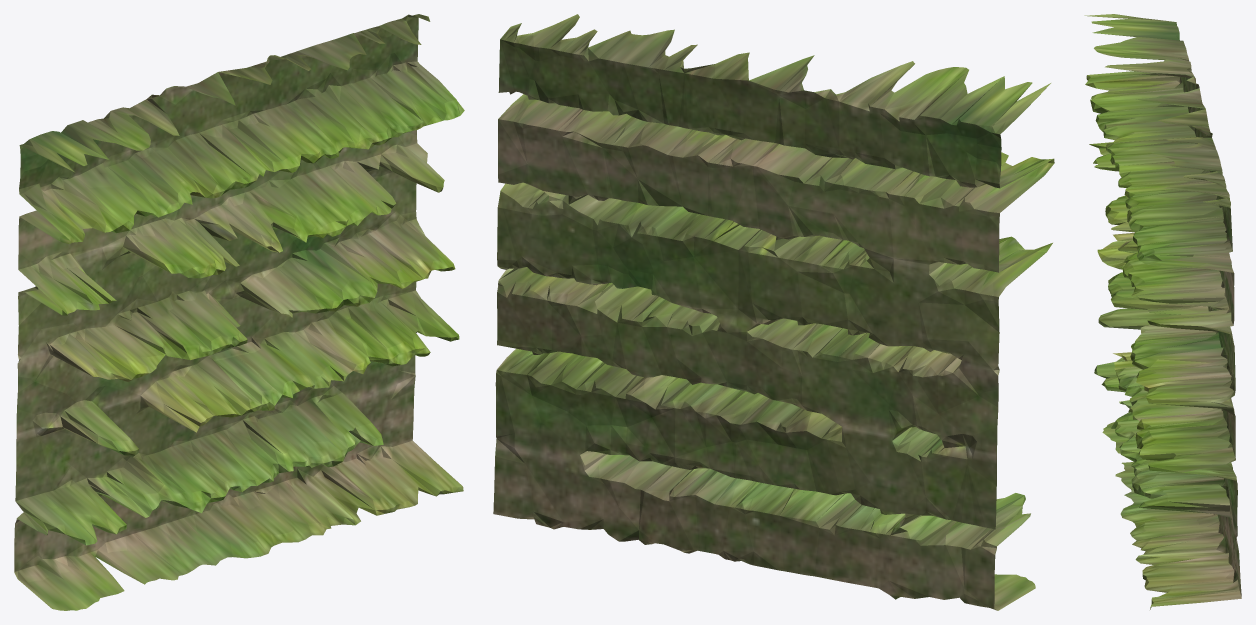
File: map_90_50.obj
3 views of the same model, side by side, from view 1: azimuth 30°, elevation 25°; view 2: azimuth 150°, elevation 25°; view 3: azimuth 270°, elevation 25° (orthographic). The views are drawn at different scales.
Parts seen in each view (by area): view 1: grp1; view 2: grp1; view 3: grp1.
Part boxes in pixels (x1=…): grp1: x1=14, y1=14, x2=464, y2=610; grp1: x1=493, y1=14, x2=1054, y2=610; grp1: x1=1084, y1=14, x2=1241, y2=609.
Size of the model in its own units: 10 by 10 by 3.53.
1 material, 1 textured.
